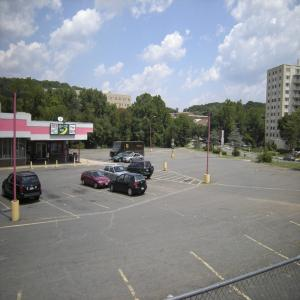Vehicle-registration-plate: (31, 188, 35, 190)
